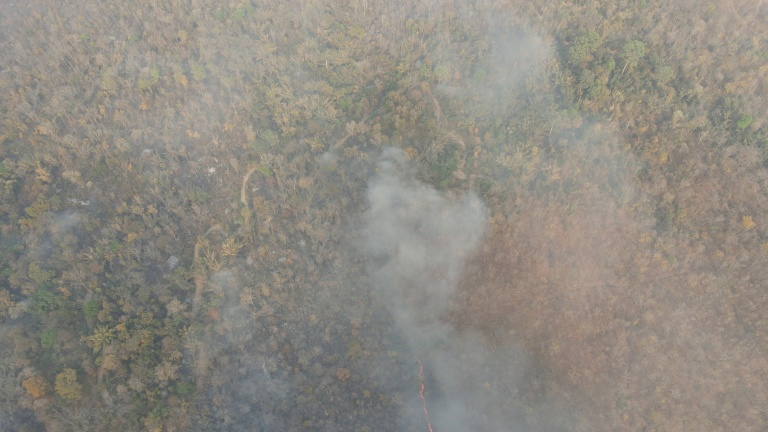fire: (412, 356, 442, 432)
smoke: (362, 163, 479, 327), (480, 36, 562, 103)
